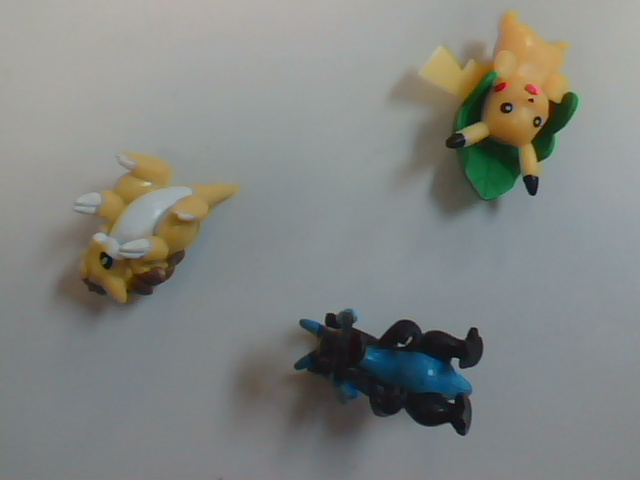charizard: (275, 275, 501, 469)
pikachu: (407, 17, 611, 224)
sandslash: (67, 132, 249, 327)
